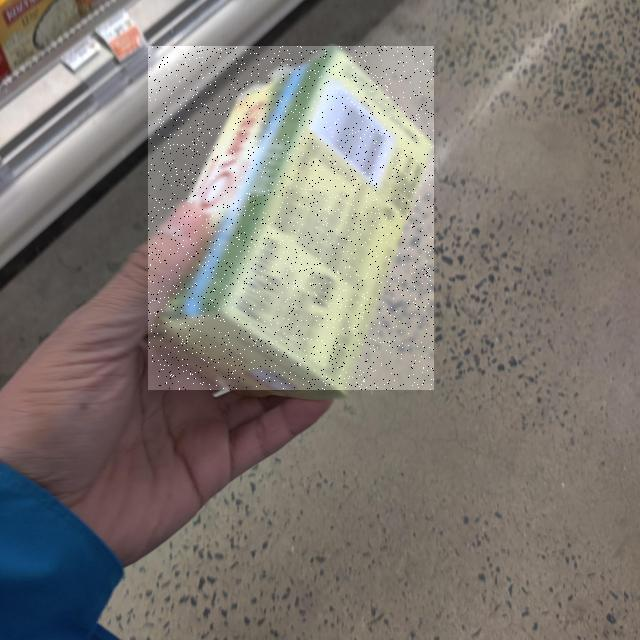Butter: (148, 47, 434, 391)
